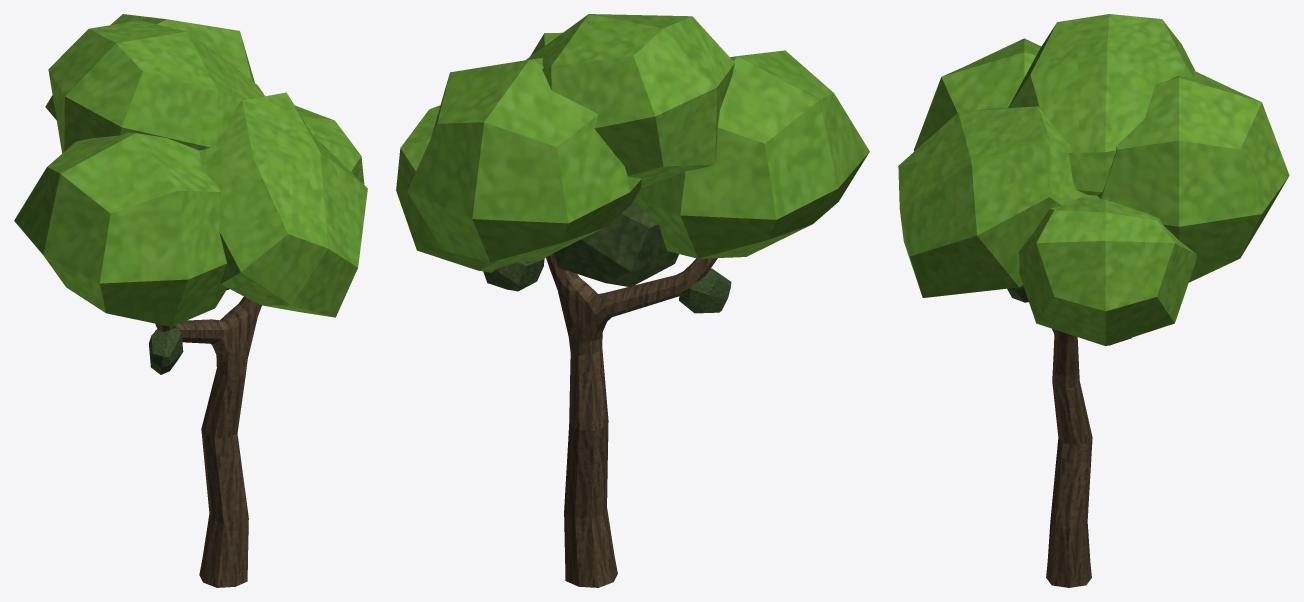
Rendered from cartontree.obj.
3 views of the same model, side by side, from view 1: azimuth 30°, elevation 25°; view 2: azimuth 150°, elevation 25°; view 3: azimuth 270°, elevation 25° (orthographic). The views are drawn at different scales.
Visible parts, largest first — view 1: Cube.001, Cube.005, Cube.008, Vert, Cube.004, Cube, Cube.003; view 2: Cube.004, Cube.001, Cube.008, Vert, Cube.007, Cube, Cube.003, Cube.006; view 3: Cube.005, Cube.004, Cube, Cube.008, Vert, Cube.001.
Boxes of the visible parts, box(x1,y1,x2,y2) form: Cube.001: box(14, 132, 227, 326); Cube.005: box(199, 92, 367, 317); Cube.008: box(48, 20, 264, 153); Vert: box(155, 296, 261, 587); Cube.004: box(45, 14, 254, 119); Cube: box(294, 105, 364, 184); Cube.003: box(149, 328, 183, 374); Cube.004: box(407, 58, 641, 262); Cube.001: box(634, 50, 869, 258); Cube.008: box(526, 14, 734, 187); Vert: box(546, 254, 717, 587); Cube.007: box(553, 201, 678, 287); Cube: box(396, 105, 552, 272); Cube.003: box(679, 268, 731, 313); Cube.006: box(483, 258, 544, 291); Cube.005: box(898, 106, 1087, 297); Cube.004: box(1097, 71, 1289, 282); Cube: box(1018, 195, 1197, 346); Cube.008: box(1008, 14, 1195, 195); Vert: box(1046, 329, 1092, 587); Cube.001: box(913, 38, 1041, 151).
Bounding box in the file's own units: 5.81 × 8.34 × 5.65.
3 materials, 3 textured.
